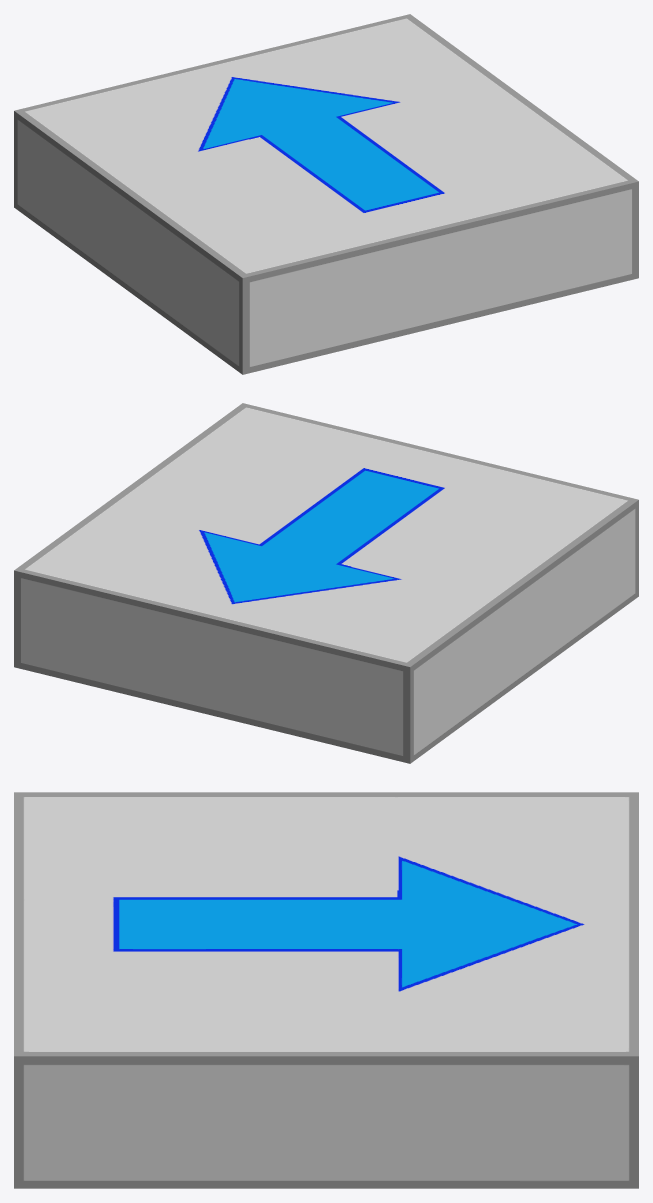
Rendered from boost kecil.fbx.
3 renders of one model, top to bottom at view 1: azimuth 30°, elevation 25°; view 2: azimuth 150°, elevation 25°; view 3: azimuth 270°, elevation 25°, orthographic. The views are drawn at different scales.
Parts seen in each view (by area): view 1: boost; view 2: boost; view 3: boost.
Boxes of the visible parts, x1,y1,x2,y2 form: boost: [14, 14, 638, 374]; boost: [14, 403, 638, 763]; boost: [14, 792, 638, 1188].
Bounding box in the file's own units: 300 × 70 × 300.
Materials: 1 (1 with a texture image).
